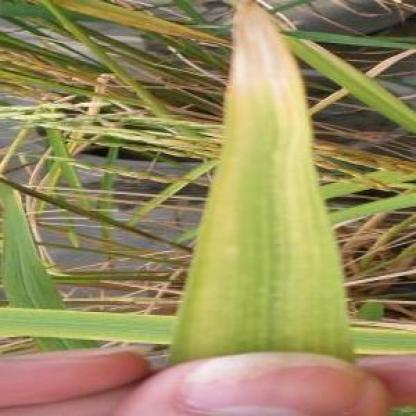Blight: (167, 1, 355, 367)
